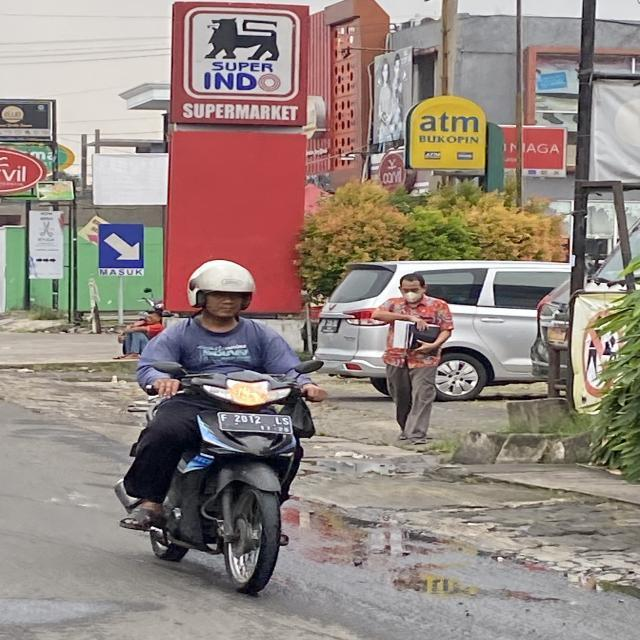Helmet: (188, 260, 255, 306)
Number Plate: (218, 412, 292, 433), (321, 319, 339, 332)
Rearview Mirror: (152, 361, 186, 378), (295, 360, 323, 374), (143, 287, 152, 293)
